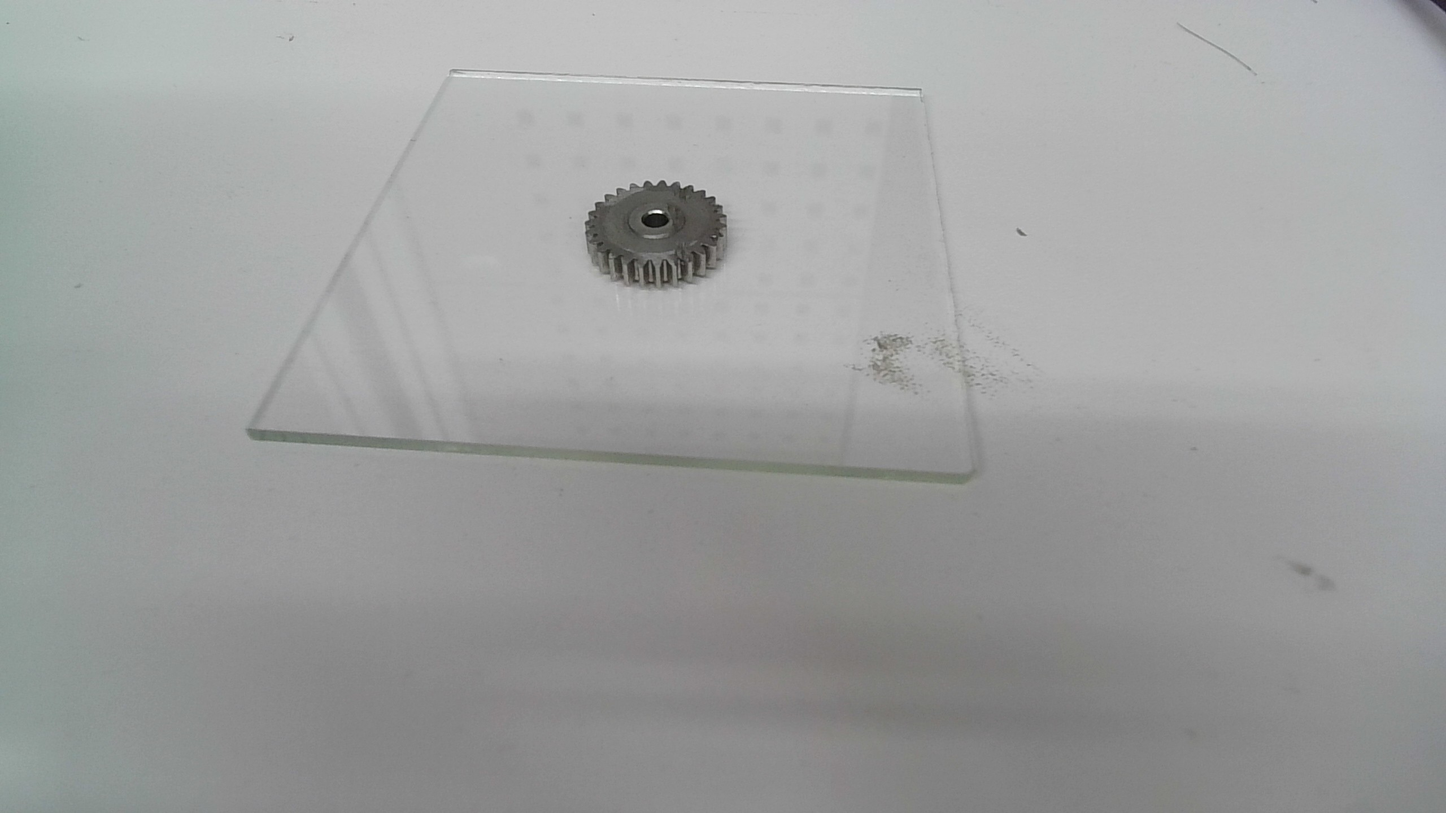gear: (583, 178, 730, 290)
